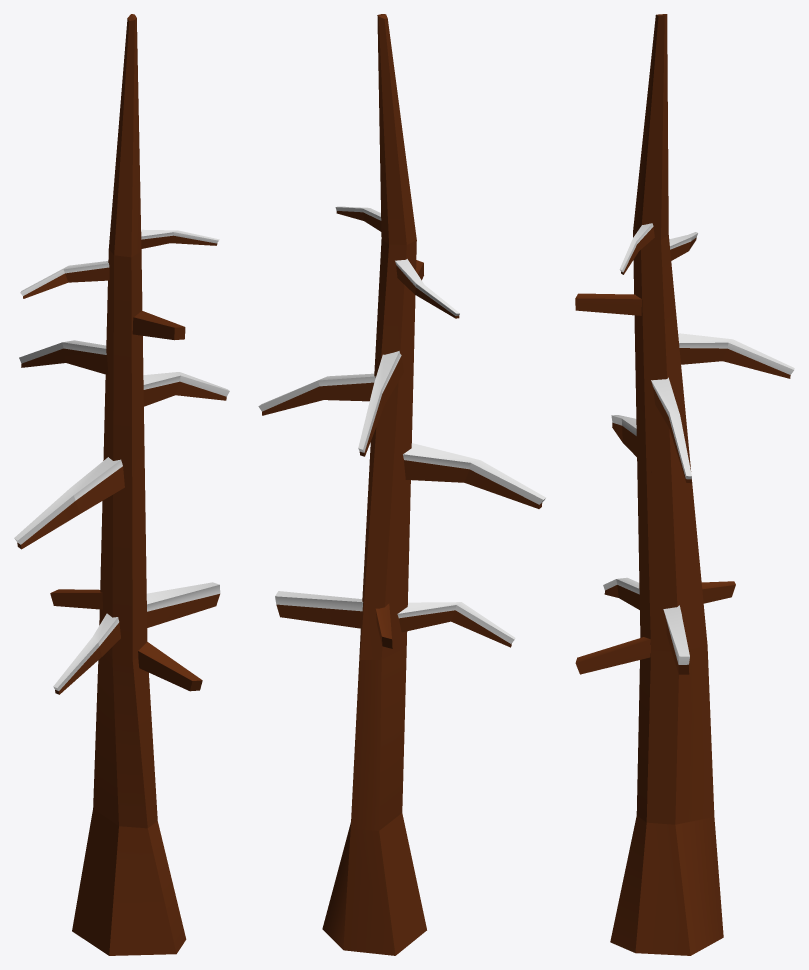
The model's file is Winter_003.fbx.
3 views of the same model, side by side, from view 1: azimuth 30°, elevation 25°; view 2: azimuth 150°, elevation 25°; view 3: azimuth 270°, elevation 25° (orthographic).
Visible parts, largest first — view 1: Winter_003; view 2: Winter_003; view 3: Winter_003.
Boxes of the visible parts, bbox=[...] form: Winter_003: bbox=[14, 14, 229, 955]; Winter_003: bbox=[258, 14, 546, 955]; Winter_003: bbox=[575, 14, 794, 955].
Size of the model in its own units: 1.75 by 6.16 by 1.33.
